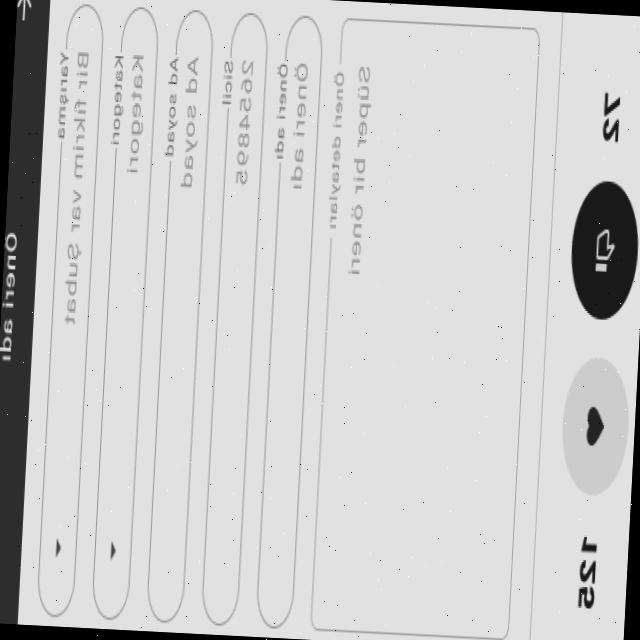QLabel: (0, 226, 18, 365), (576, 538, 598, 612), (602, 90, 622, 144)
VAppBar: (0, 0, 50, 624)
VCombobox: (84, 6, 160, 624), (30, 3, 104, 621)
VFooter: (528, 12, 640, 640)
VIcon: (15, 0, 33, 24)
VImg: (565, 178, 640, 325), (558, 356, 630, 499)
VTextField: (192, 13, 270, 629), (138, 9, 214, 628), (248, 15, 324, 633)
VTextarea: (304, 14, 542, 640)
